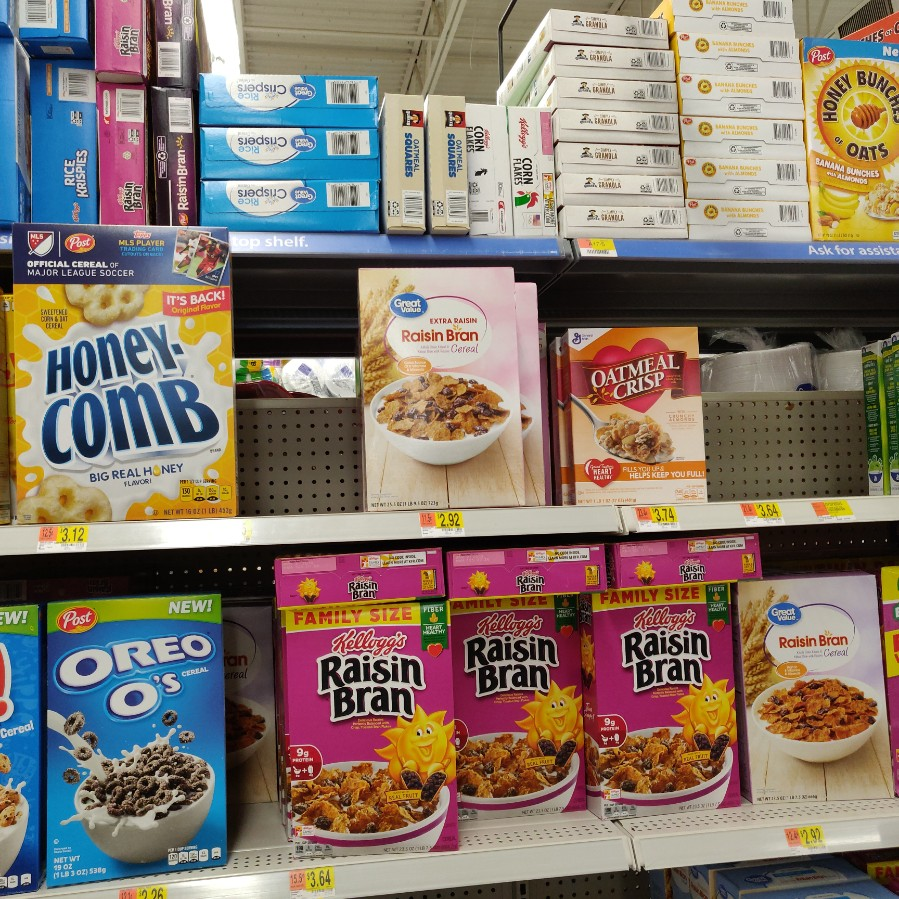Honey Comb- 009288857: (9, 219, 239, 519)
Oreo-563424384: (41, 604, 229, 865)
